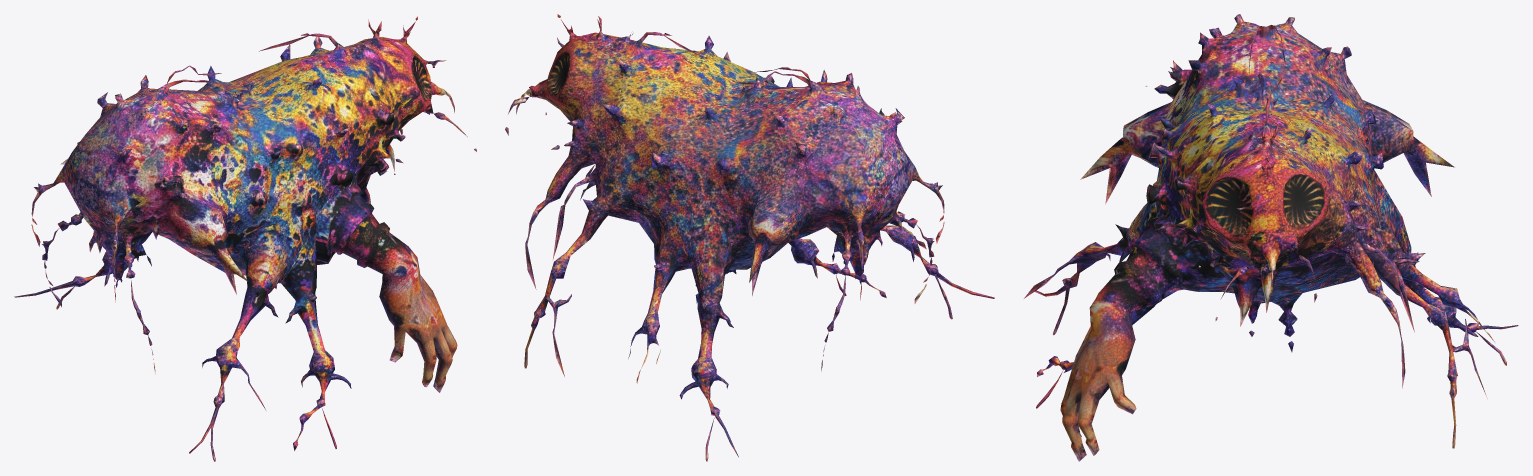
Rendered from parasite1.glb.
3 renders of one model, left to right at view 1: azimuth 30°, elevation 25°; view 2: azimuth 150°, elevation 25°; view 3: azimuth 270°, elevation 25°, orthographic. The views are drawn at different scales.
Visible parts, largest first — view 1: tripo_node_7e0f4f15-85f7-4791-97ea-aac0e5088da3; view 2: tripo_node_7e0f4f15-85f7-4791-97ea-aac0e5088da3; view 3: tripo_node_7e0f4f15-85f7-4791-97ea-aac0e5088da3.
Boxes of the visible parts, left/top/right/bottom form: tripo_node_7e0f4f15-85f7-4791-97ea-aac0e5088da3: left=14, top=16, right=476, bottom=461; tripo_node_7e0f4f15-85f7-4791-97ea-aac0e5088da3: left=505, top=14, right=994, bottom=461; tripo_node_7e0f4f15-85f7-4791-97ea-aac0e5088da3: left=1024, top=14, right=1518, bottom=461.
Bounding box in the file's own units: 0.998 × 0.7988 × 0.9902.
Materials: 1 (1 with a texture image).
